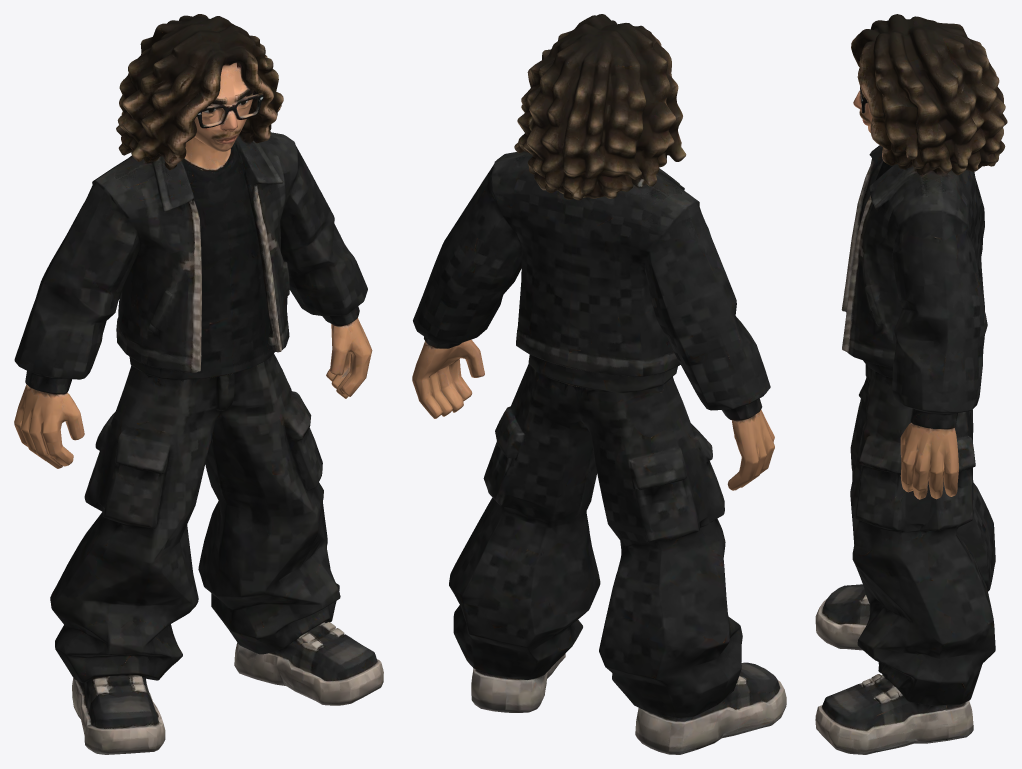
File: team-prxdigy.glb
3 views of the same model, side by side, from view 1: azimuth 30°, elevation 25°; view 2: azimuth 150°, elevation 25°; view 3: azimuth 270°, elevation 25° (orthographic). The views are drawn at different scales.
Size of the model in its own units: 1.01 by 1.9 by 0.4965.
1 material, 1 textured.
